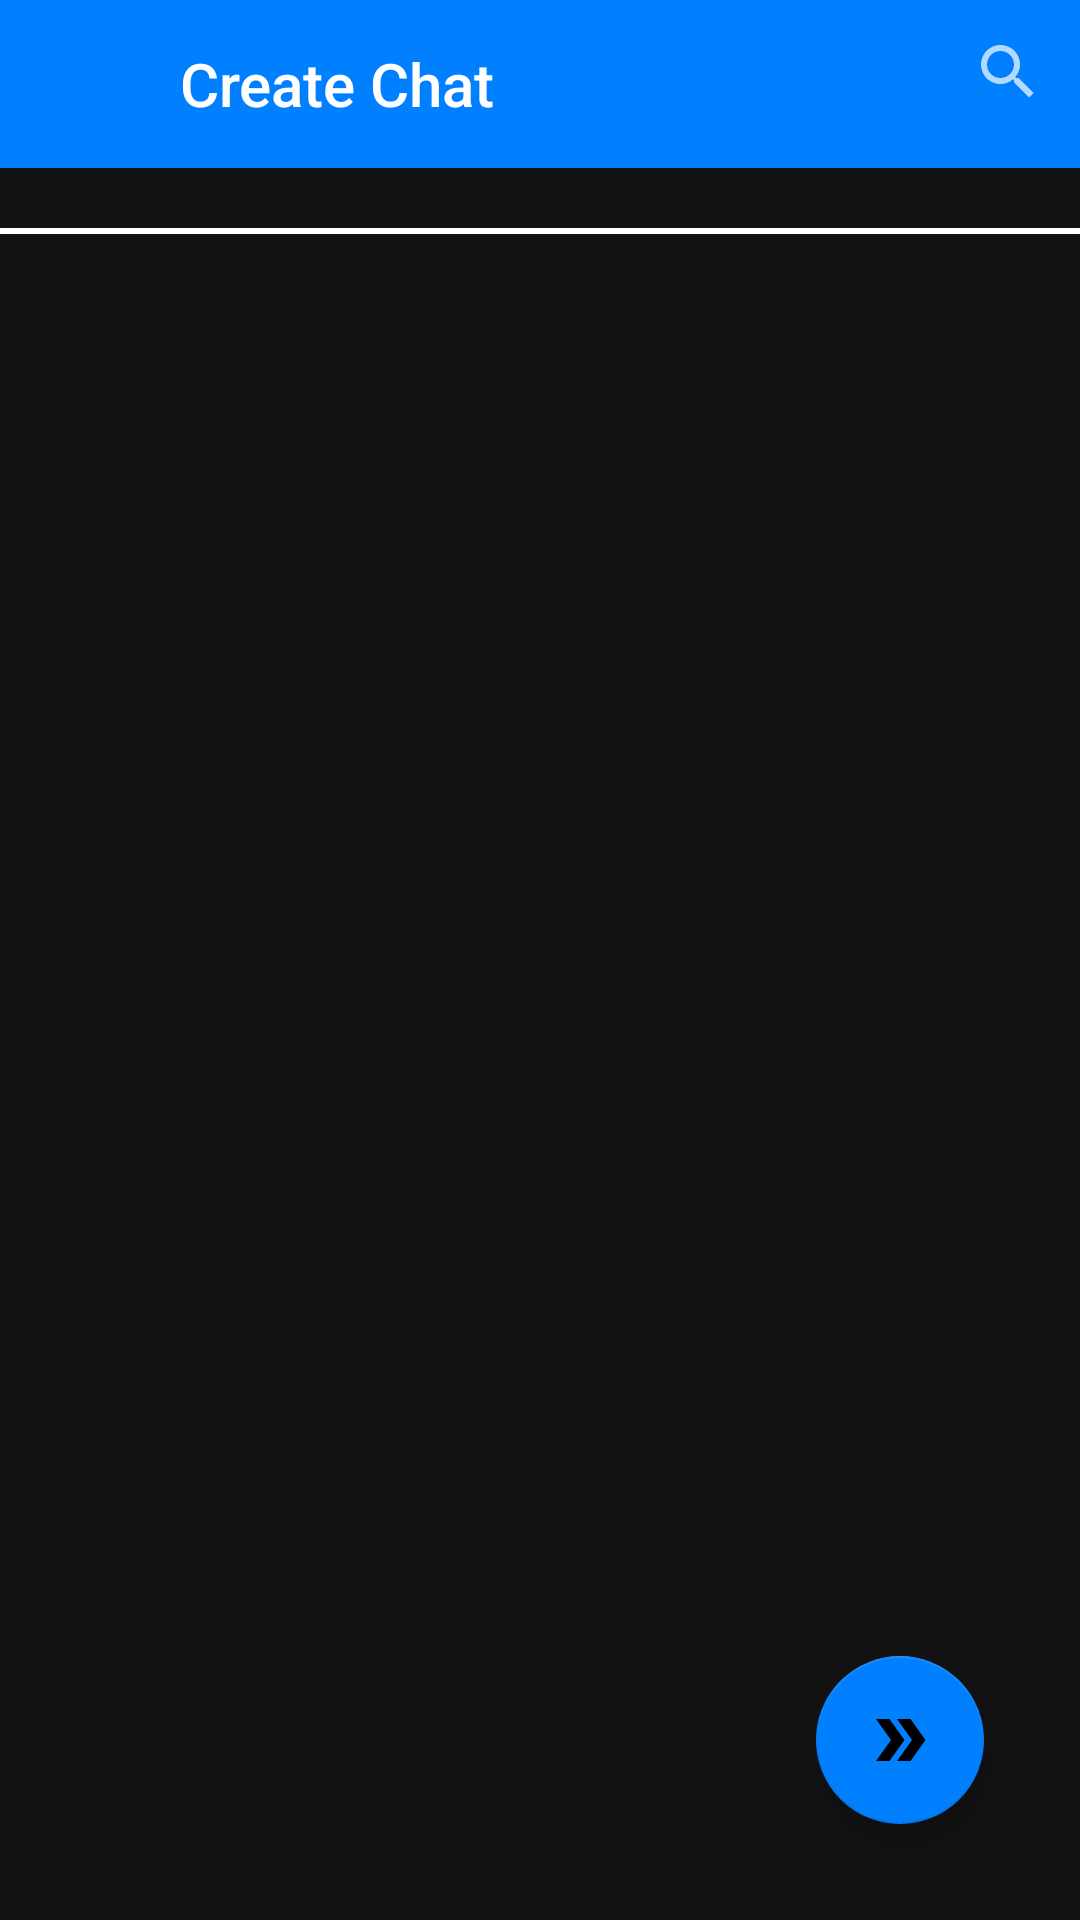

Point at icon controls on the screen. Image size 1080×1920, points as [x,y].
arrow: [900,1740]
